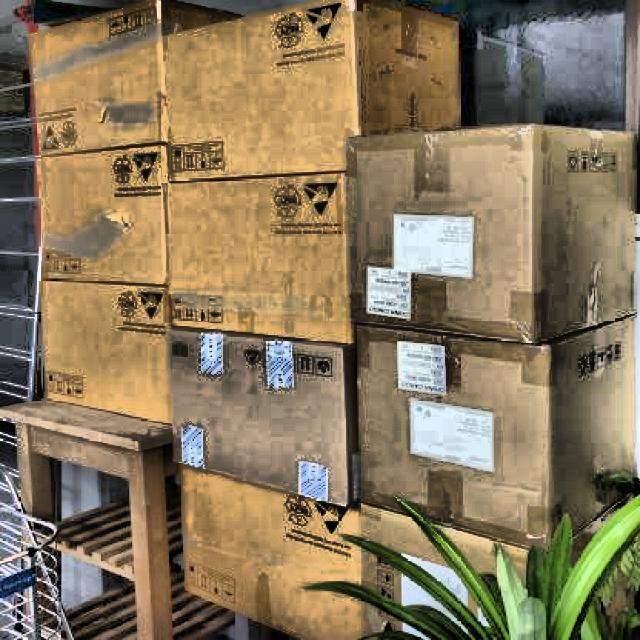Cardbox: (0, 14, 592, 593), (176, 328, 543, 640), (29, 0, 164, 83)
